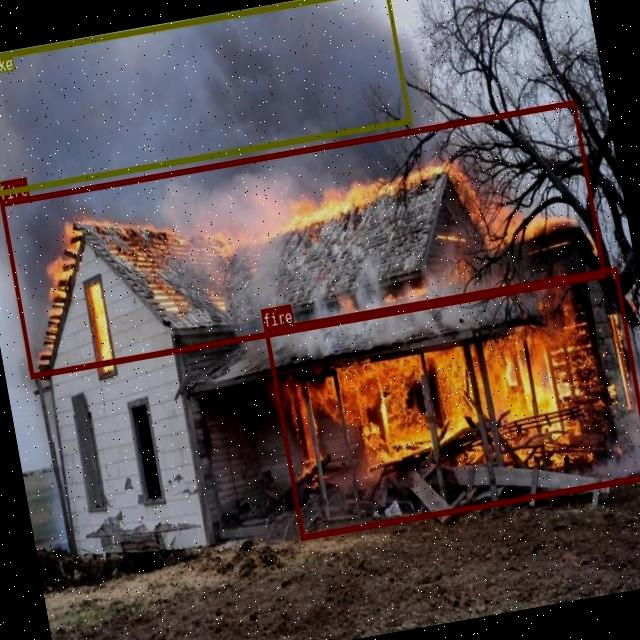fire: (0, 99, 605, 378), (263, 265, 640, 538)
smoke: (0, 0, 411, 194)
